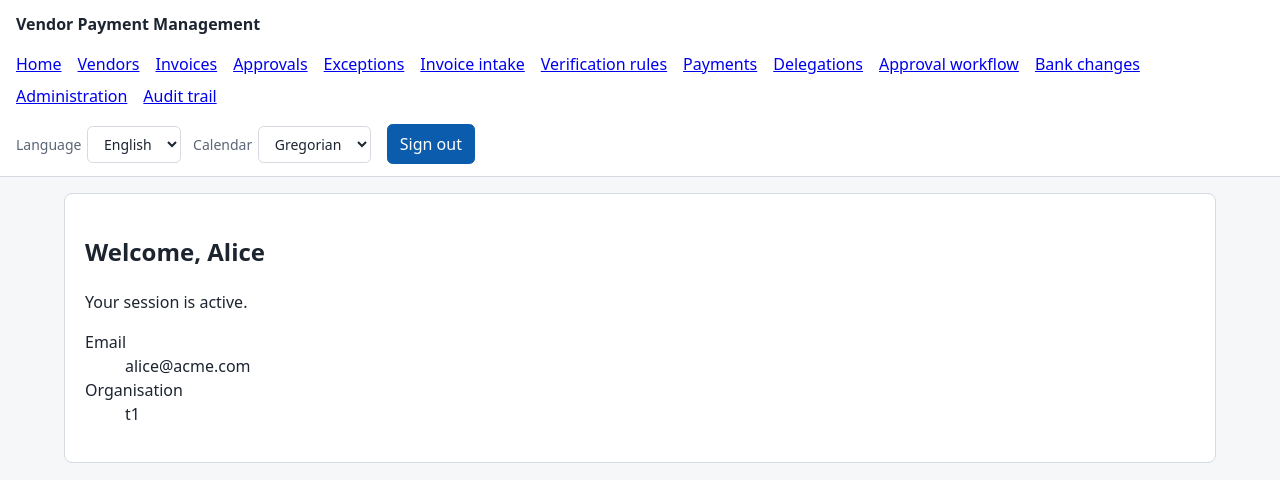
Test: signed-in user › sees their details and can sign out with the antiforgery header
Expected: the heading "Welcome, Alice" is shown, left=85, top=235, right=265, bottom=268
Click the button "Sign out" at (431, 144), box left=387, top=124, right=475, bottom=164
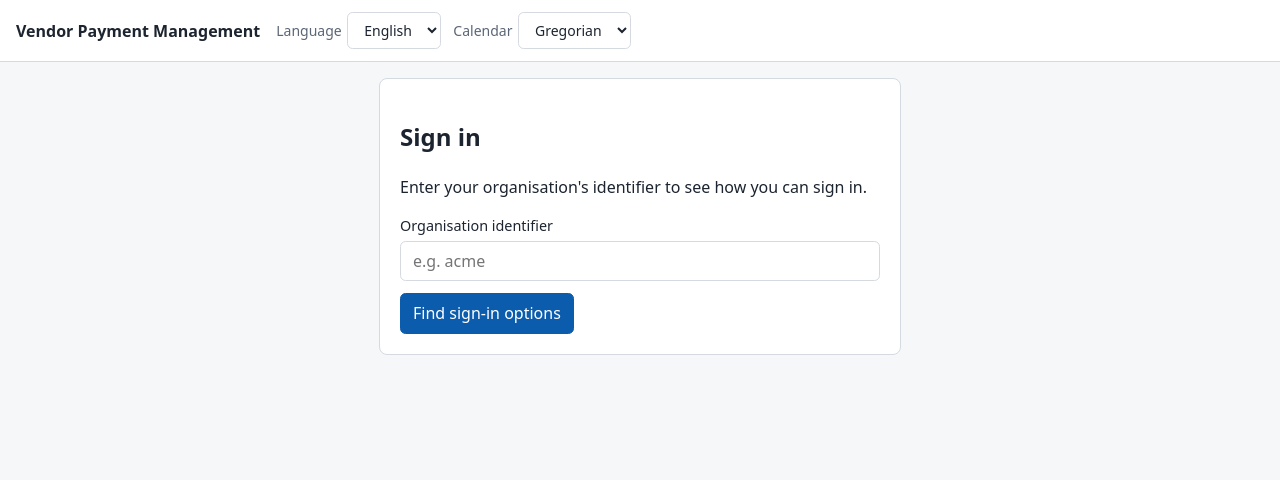
Now the heading "Sign in" is shown, box left=400, top=120, right=481, bottom=153
